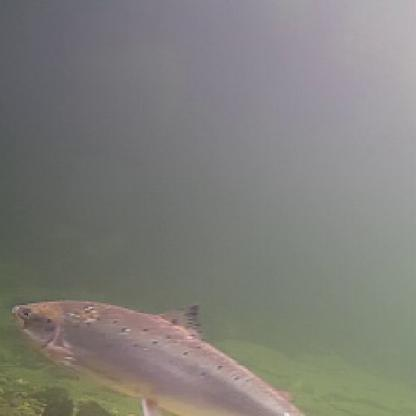salmon: (5, 291, 309, 414)
